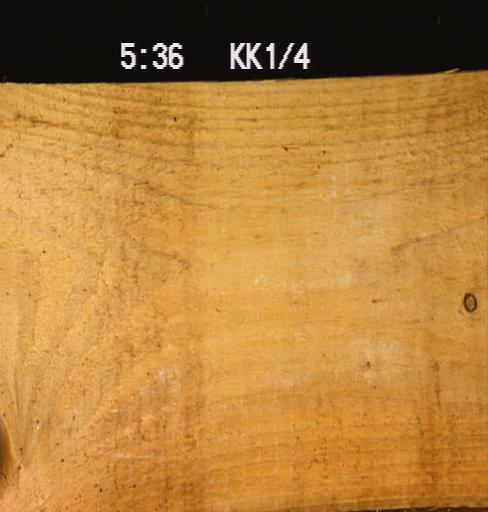dry_knot: (460, 289, 477, 313)
sound_knot: (0, 413, 15, 487)
wave: (339, 502, 487, 511)
